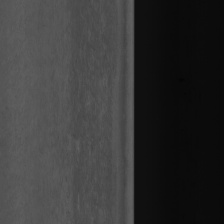silk_spot: (70, 51, 116, 142)
